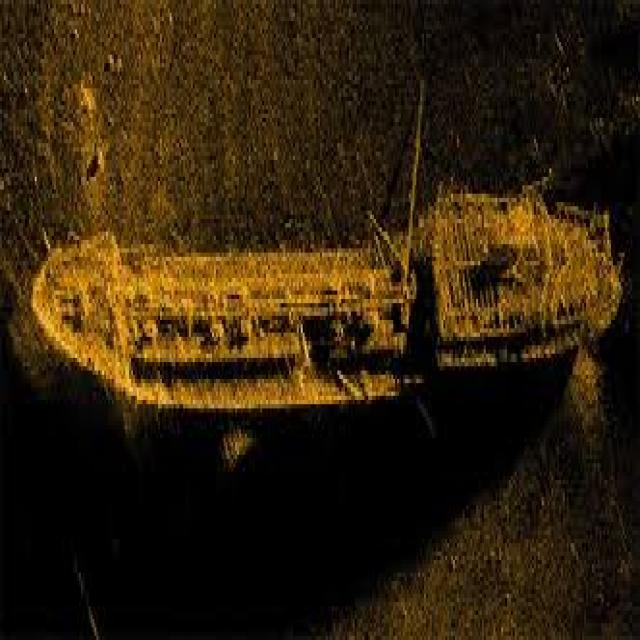shipwreck: (25, 172, 623, 412)
